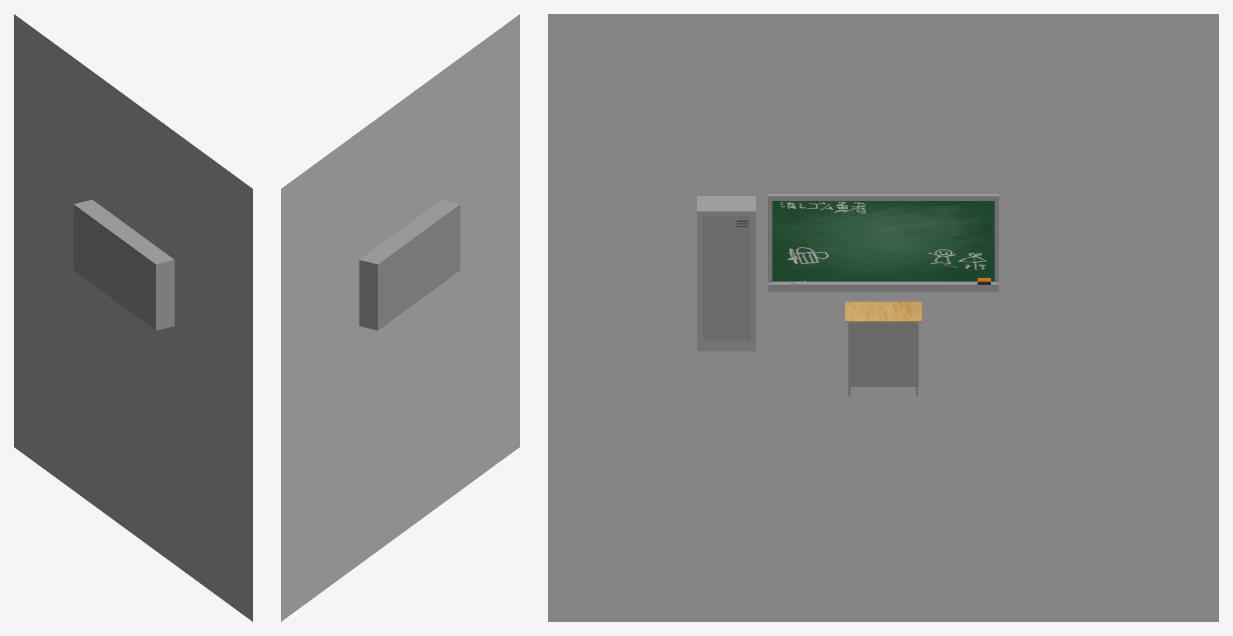
The model's file is School.fbx.
The picture shows the model from 3 angles, left to right: view 1: azimuth 30°, elevation 25°; view 2: azimuth 150°, elevation 25°; view 3: azimuth 270°, elevation 25°; orthographic projection. The views are drawn at different scales.
Parts seen in each view (by area): view 1: 壁, 立方体; view 2: 壁, 立方体; view 3: 壁, 立方体.002, 立方体.008, 立方体.010, 立方体.007, 立方体, 立方体.001, 立方体.009.
Part boxes in pixels (x1=…): 壁: x1=14, y1=14, x2=252, y2=621; 立方体: x1=73, y1=199, x2=174, y2=330; 壁: x1=281, y1=14, x2=519, y2=621; 立方体: x1=359, y1=199, x2=460, y2=330; 壁: x1=548, y1=14, x2=1218, y2=621; 立方体.002: x1=772, y1=201, x2=994, y2=281; 立方体.008: x1=702, y1=215, x2=750, y2=340; 立方体.010: x1=848, y1=322, x2=918, y2=386; 立方体.007: x1=697, y1=196, x2=755, y2=351; 立方体: x1=768, y1=194, x2=998, y2=282; 立方体.001: x1=767, y1=282, x2=998, y2=291; 立方体.009: x1=845, y1=301, x2=921, y2=322.
Bounding box in the file's own units: 8.63 × 37.25 × 37.25.
